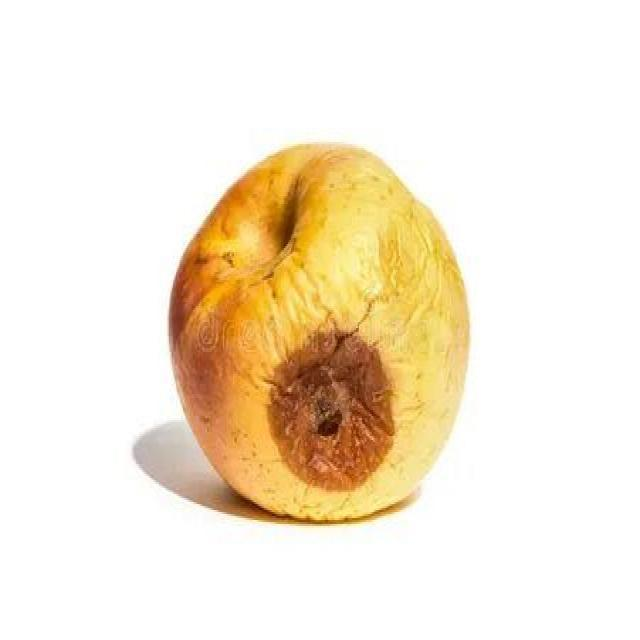Rotten: (167, 148, 470, 514)
